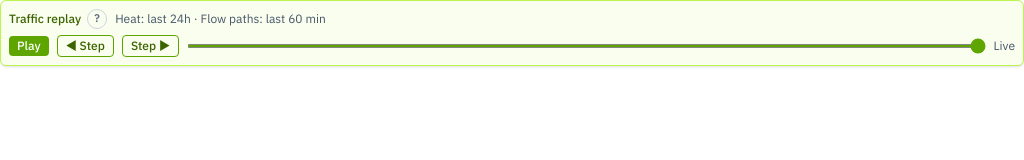
Test: FlowReplayPanel — the two honest empty cases › says traffic was quiet (not 'ingestion disabled') when ingestion is on but this instant is empty
Click the button with aria-label "Step back one frame".
click(85, 46)  # box [57,35,114,57]
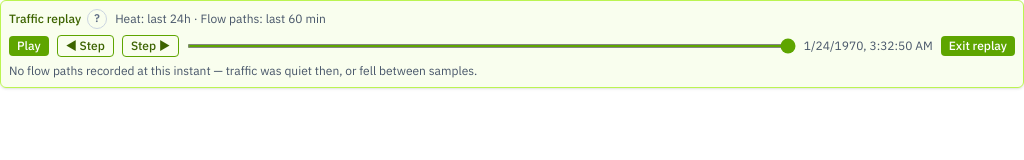
Result: the text "No flow paths recorded at this instant" is shown at [9,63,477,78]
